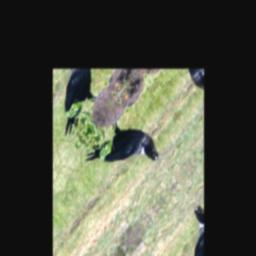Crow: (81, 103, 164, 207)
